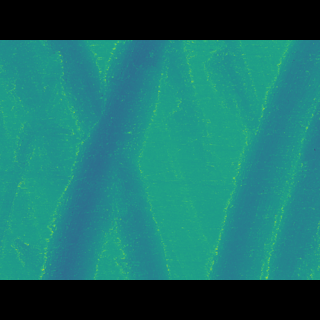Loch: (36, 70, 185, 250), (206, 69, 320, 250)
